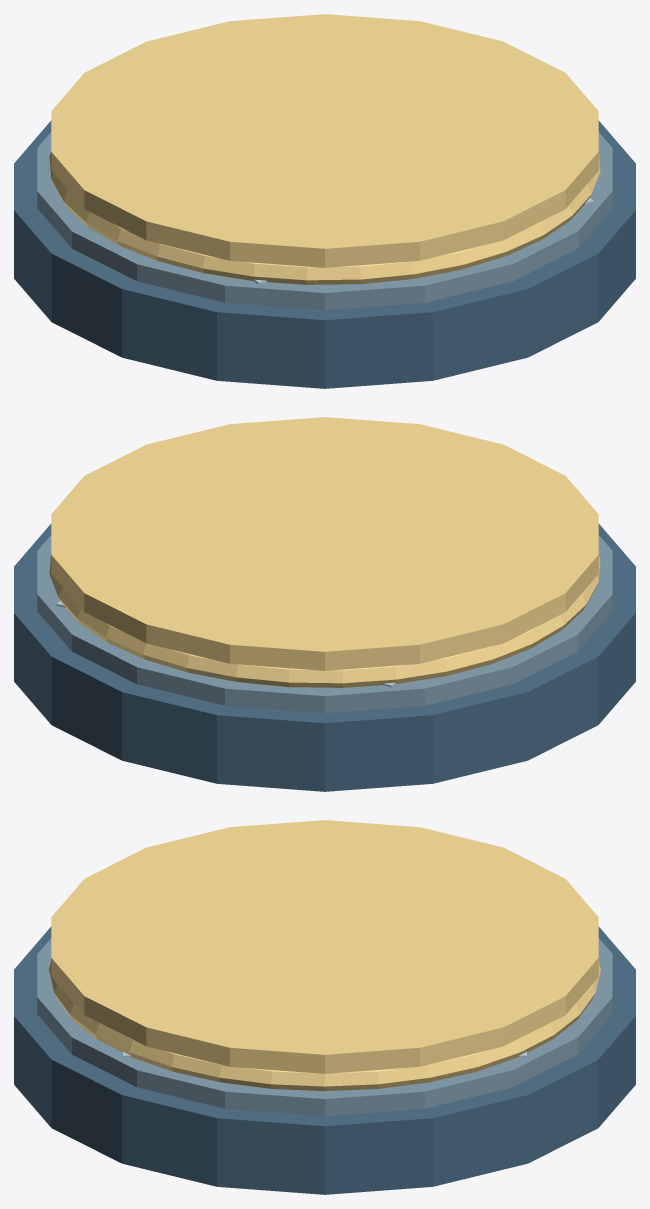
The model's file is turret_pad.glb.
The picture shows the model from 3 angles, top to bottom: view 1: azimuth 30°, elevation 25°; view 2: azimuth 150°, elevation 25°; view 3: azimuth 270°, elevation 25°; orthographic projection.
Parts seen in each view (by area): view 1: pad_marker_7, pedestal_0, armor_ring_1, energy_ring_2; view 2: pad_marker_7, pedestal_0, armor_ring_1, energy_ring_2; view 3: pad_marker_7, pedestal_0, armor_ring_1, energy_ring_2.
Boxes of the visible parts, x1,y1,x2,y2 form: pad_marker_7: (51,14,598,267); pedestal_0: (14,120,635,388); armor_ring_1: (37,132,612,310); energy_ring_2: (49,150,600,284); pad_marker_7: (51,417,598,670); pedestal_0: (14,523,635,791); armor_ring_1: (37,535,612,713); energy_ring_2: (49,553,600,687); pad_marker_7: (51,820,598,1073); pedestal_0: (14,926,635,1194); armor_ring_1: (37,938,612,1116); energy_ring_2: (49,960,600,1091).
Size of the model in its own units: 1.5 by 0.325 by 1.48.
